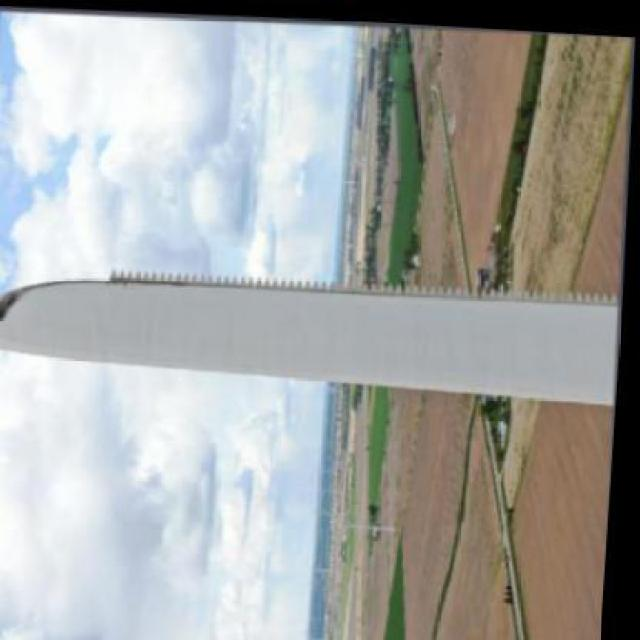Burn Mark: (0, 286, 29, 325)
